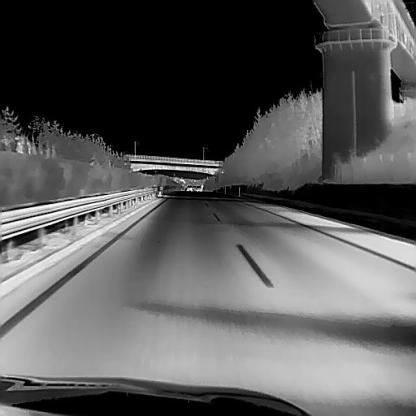car: (194, 184, 202, 191), (185, 184, 192, 190)
